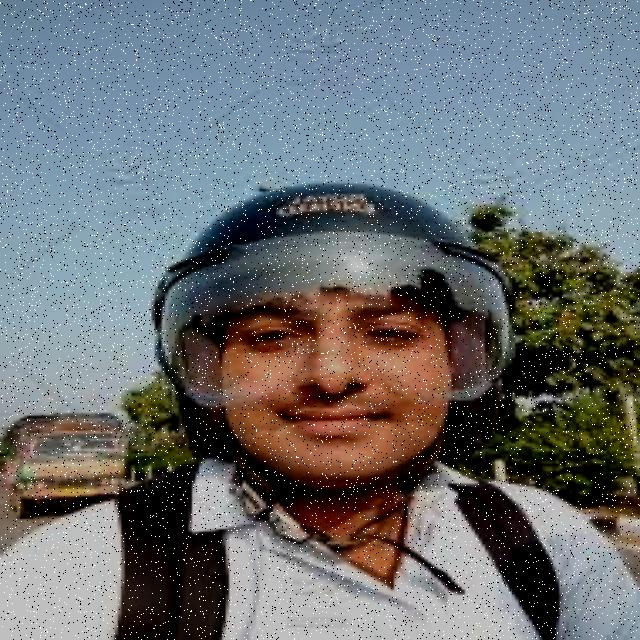with-helmet: (142, 176, 542, 496)
